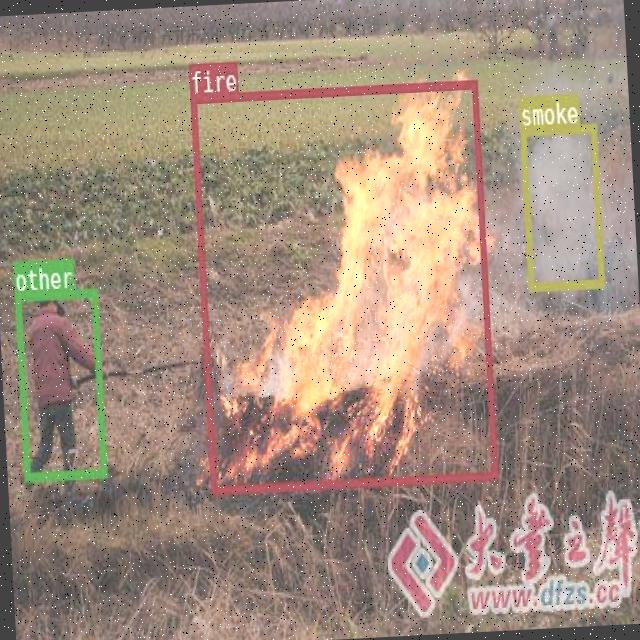fire: (190, 80, 497, 493)
smoke: (520, 123, 604, 290)
